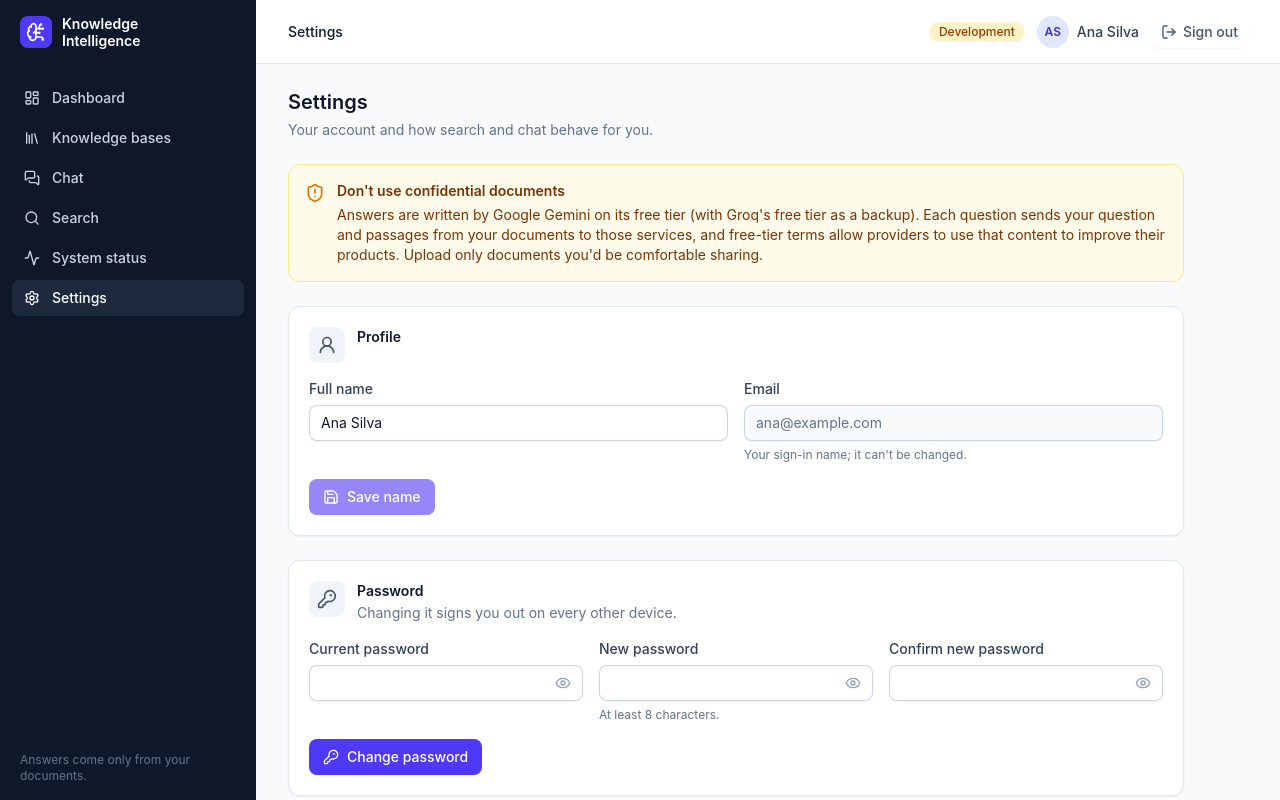
Scenario: settings page › saves a new name and shows it in the top bar
This screenshot has width=1280, height=800.
Replace the text in the field labelled "Full name" with "Ana Costa". click: (518, 423)
box: [309,405,728,441]
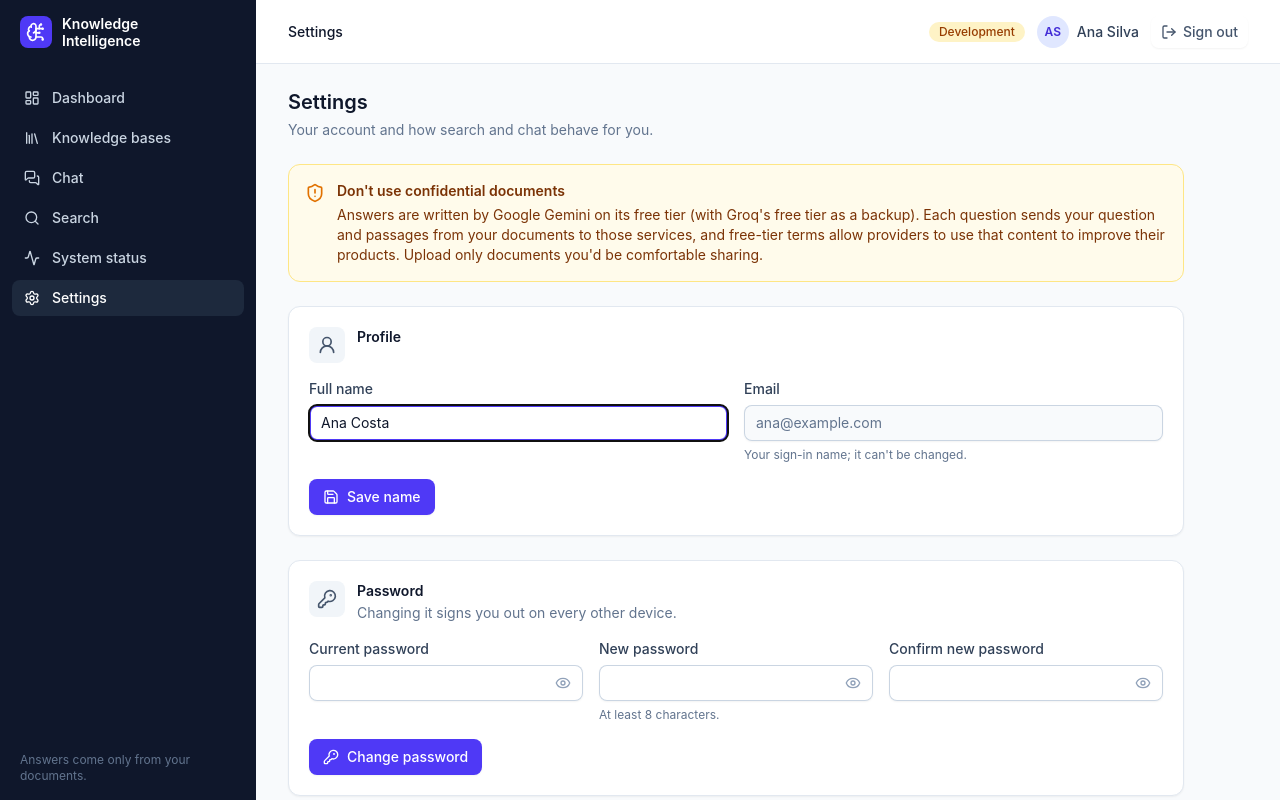
Click the button "Save name". click: (372, 497)
box: [309,479,434,515]
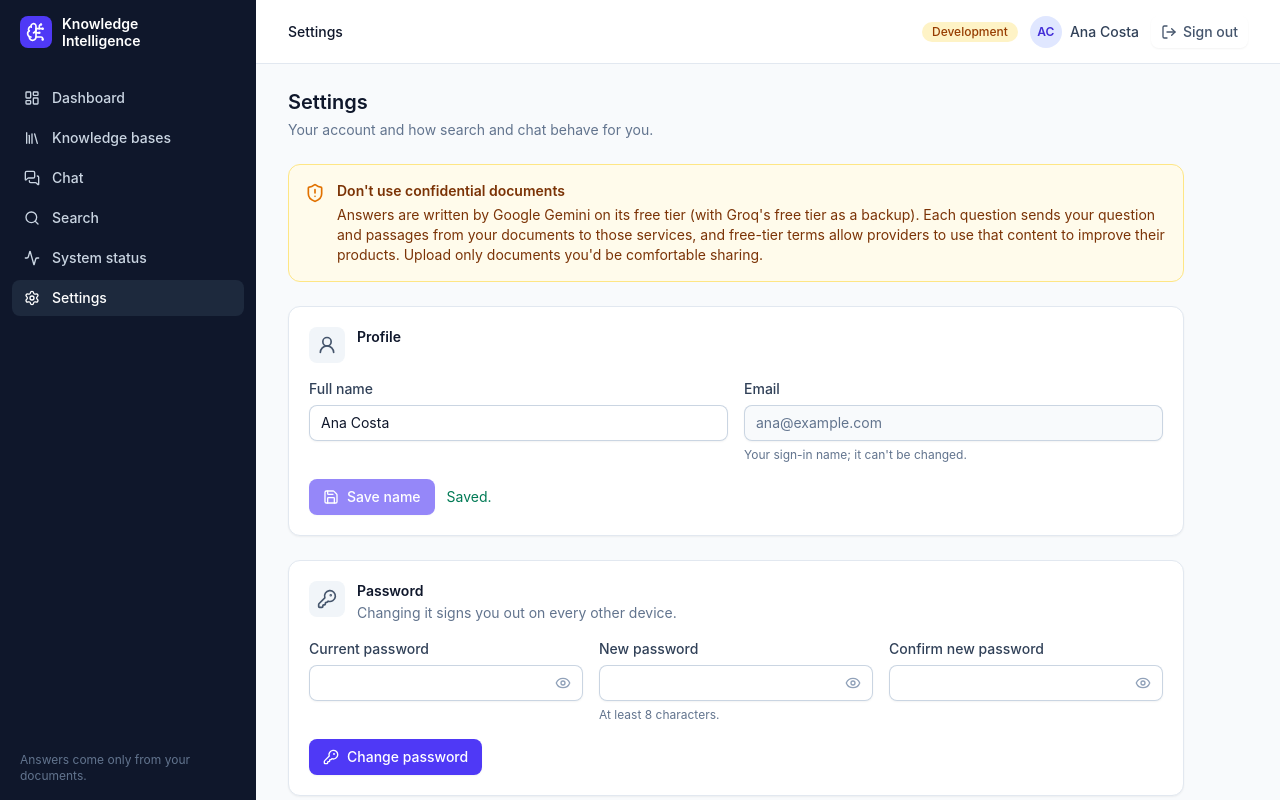
Check: the message reads "Saved.", box [446,488,492,505]
Check: the header shows "Ana Costa", box [1070,22,1139,40]
